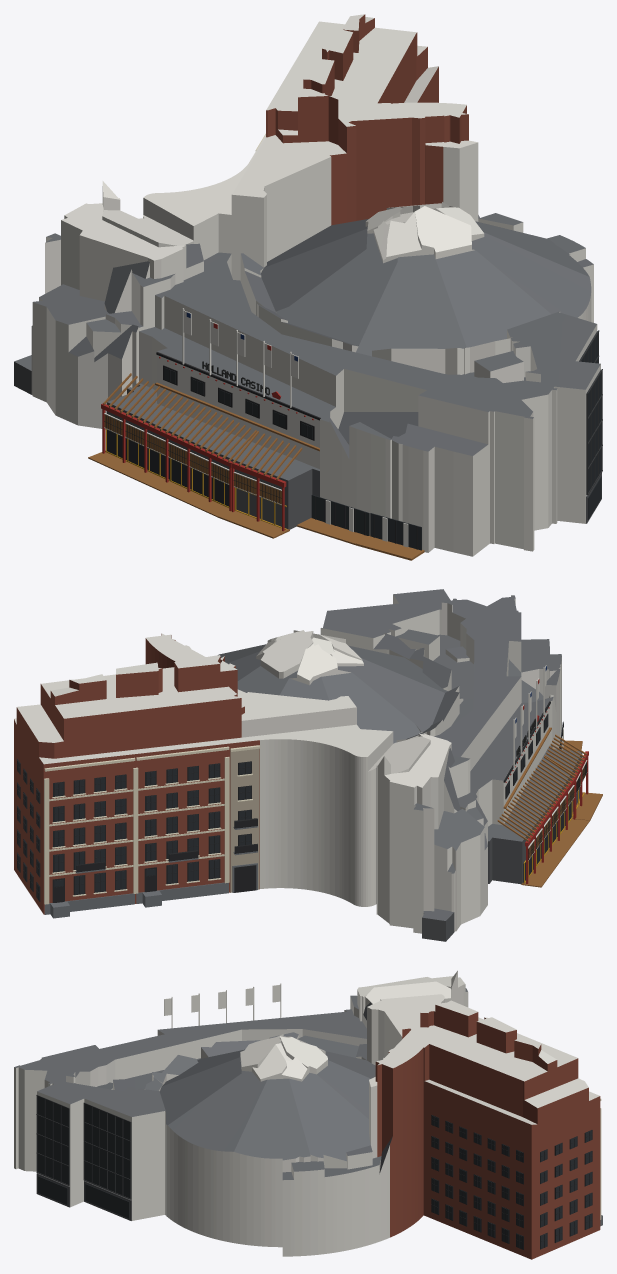
The model's file is holland-casino-amsterdam.glb.
3 renders of one model, top to bottom at view 1: azimuth 30°, elevation 25°; view 2: azimuth 150°, elevation 25°; view 3: azimuth 270°, elevation 25°, orthographic. The views are drawn at different scales.
Parts seen in each view (by area): view 1: holland-casino-amsterdam; view 2: holland-casino-amsterdam; view 3: holland-casino-amsterdam.
Part boxes in pixels (bbox=[...]): holland-casino-amsterdam: bbox=[14, 14, 602, 560]; holland-casino-amsterdam: bbox=[14, 589, 602, 941]; holland-casino-amsterdam: bbox=[14, 970, 602, 1259].
Size of the model in its own units: 60.17 by 29.52 by 83.22.
